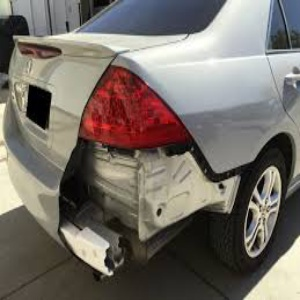bumper: (40, 157, 149, 277)
